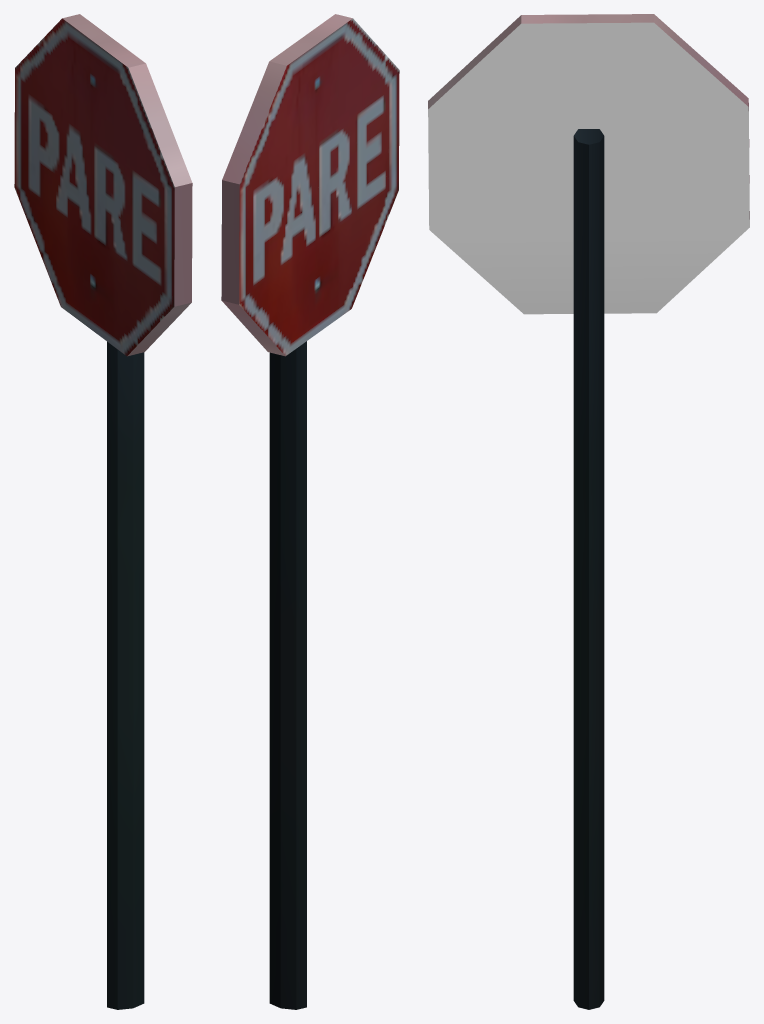
Rendered from Cartel_Pare.fbx.
3 renders of one model, left to right at view 1: azimuth 30°, elevation 25°; view 2: azimuth 150°, elevation 25°; view 3: azimuth 270°, elevation 25°, orthographic.
Parts seen in each view (by area): view 1: Cartel_Pare; view 2: Cartel_Pare; view 3: Cartel_Pare.
Part boxes in pixels (x1,y1,x2,y2): Cartel_Pare: [14, 14, 192, 1009]; Cartel_Pare: [221, 14, 399, 1009]; Cartel_Pare: [428, 14, 749, 1009].
Size of the model in its own units: 0.1326 by 0.7416 by 2.47.
1 material, 1 textured.
